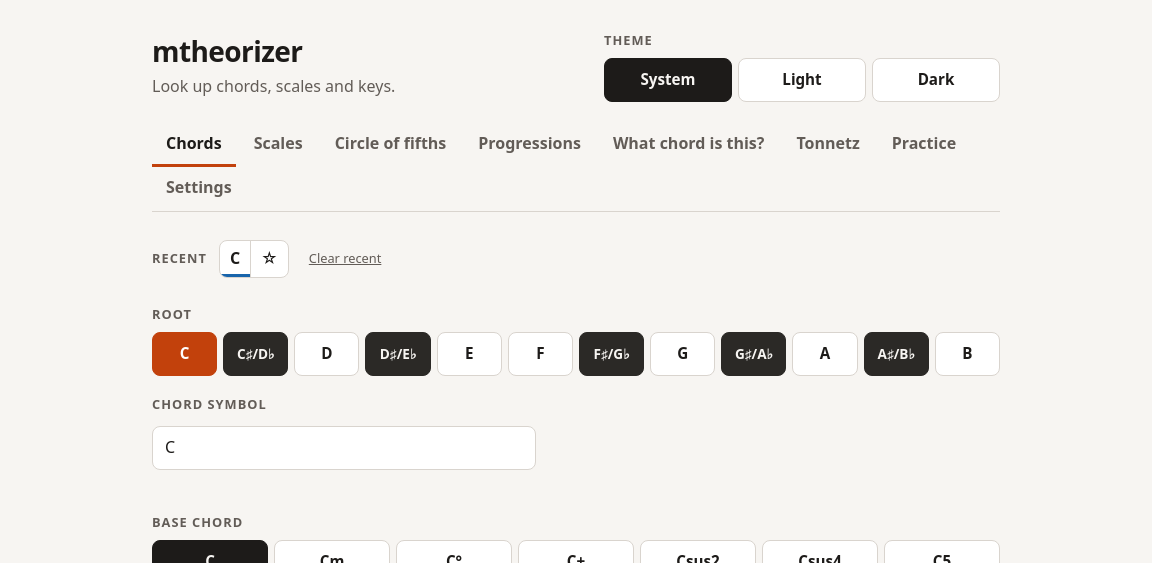
it: recent and favorite choices › pins a choice as a favorite and unpins it
Click the button named "Favorite C (Piano)": (269, 259) top-left (250, 241), bottom-right (288, 277)
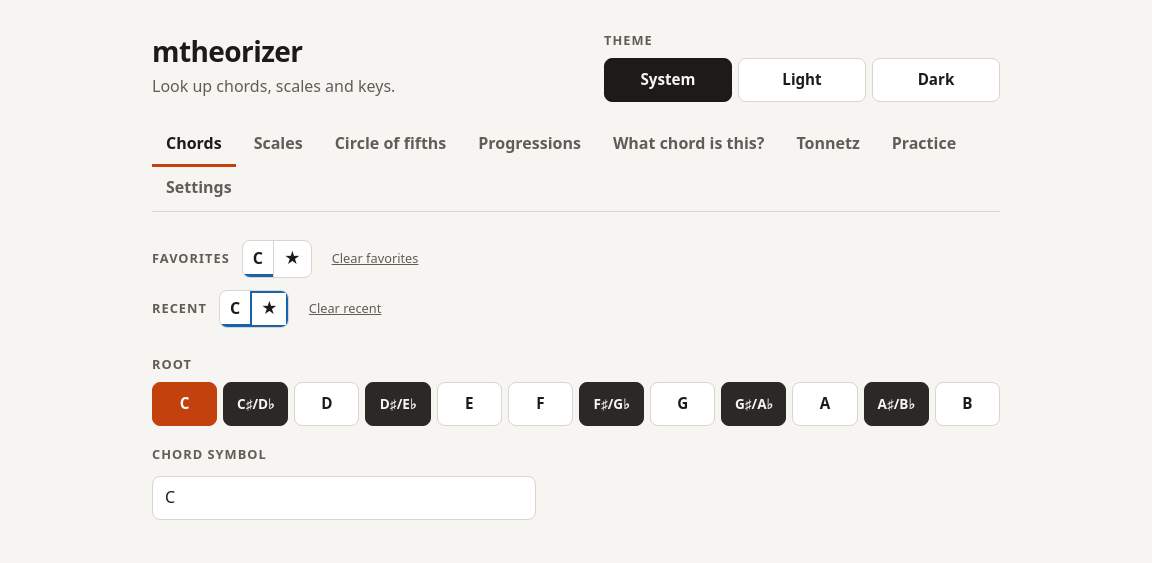
Now the list named "Favorites" is shown, box top-left (242, 240), bottom-right (312, 278)
The favorite stays when the recent list is cleared.
Click the button "Clear recent": (345, 309) top-left (301, 296), bottom-right (389, 322)
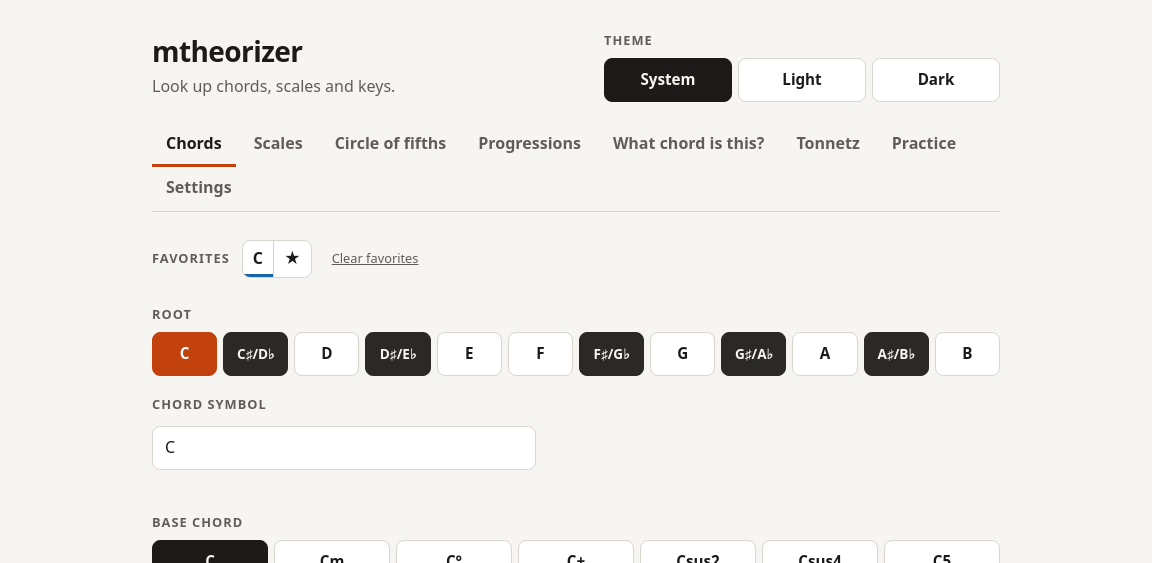
Now the text "Recent" is gone
Click the button named "Favorite C (Piano)": (292, 259) top-left (273, 241), bottom-right (311, 277)
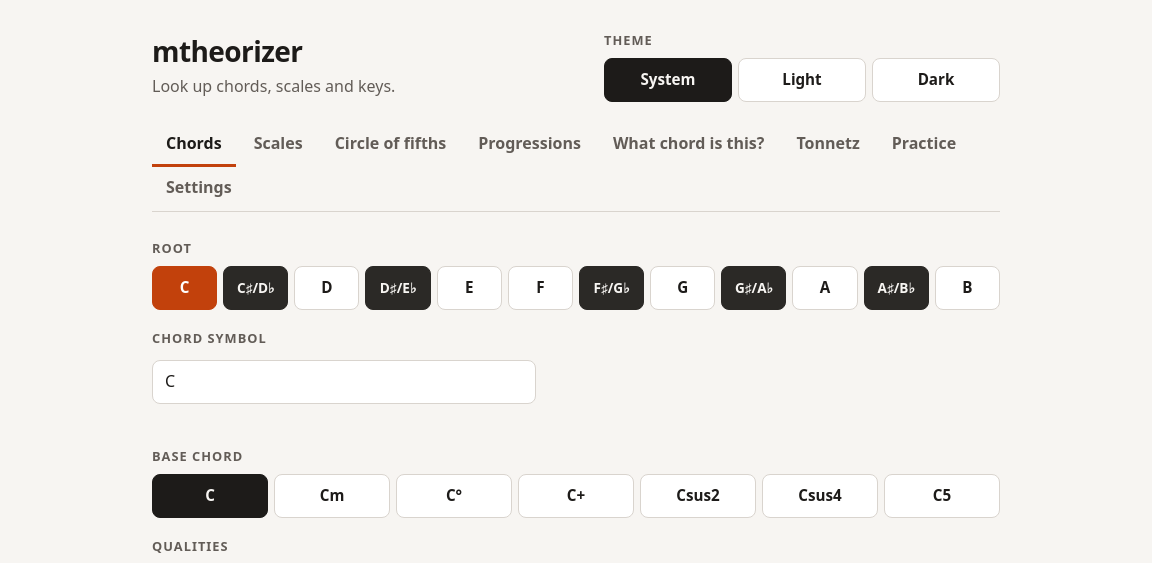
Now the text "Favorites" is gone
